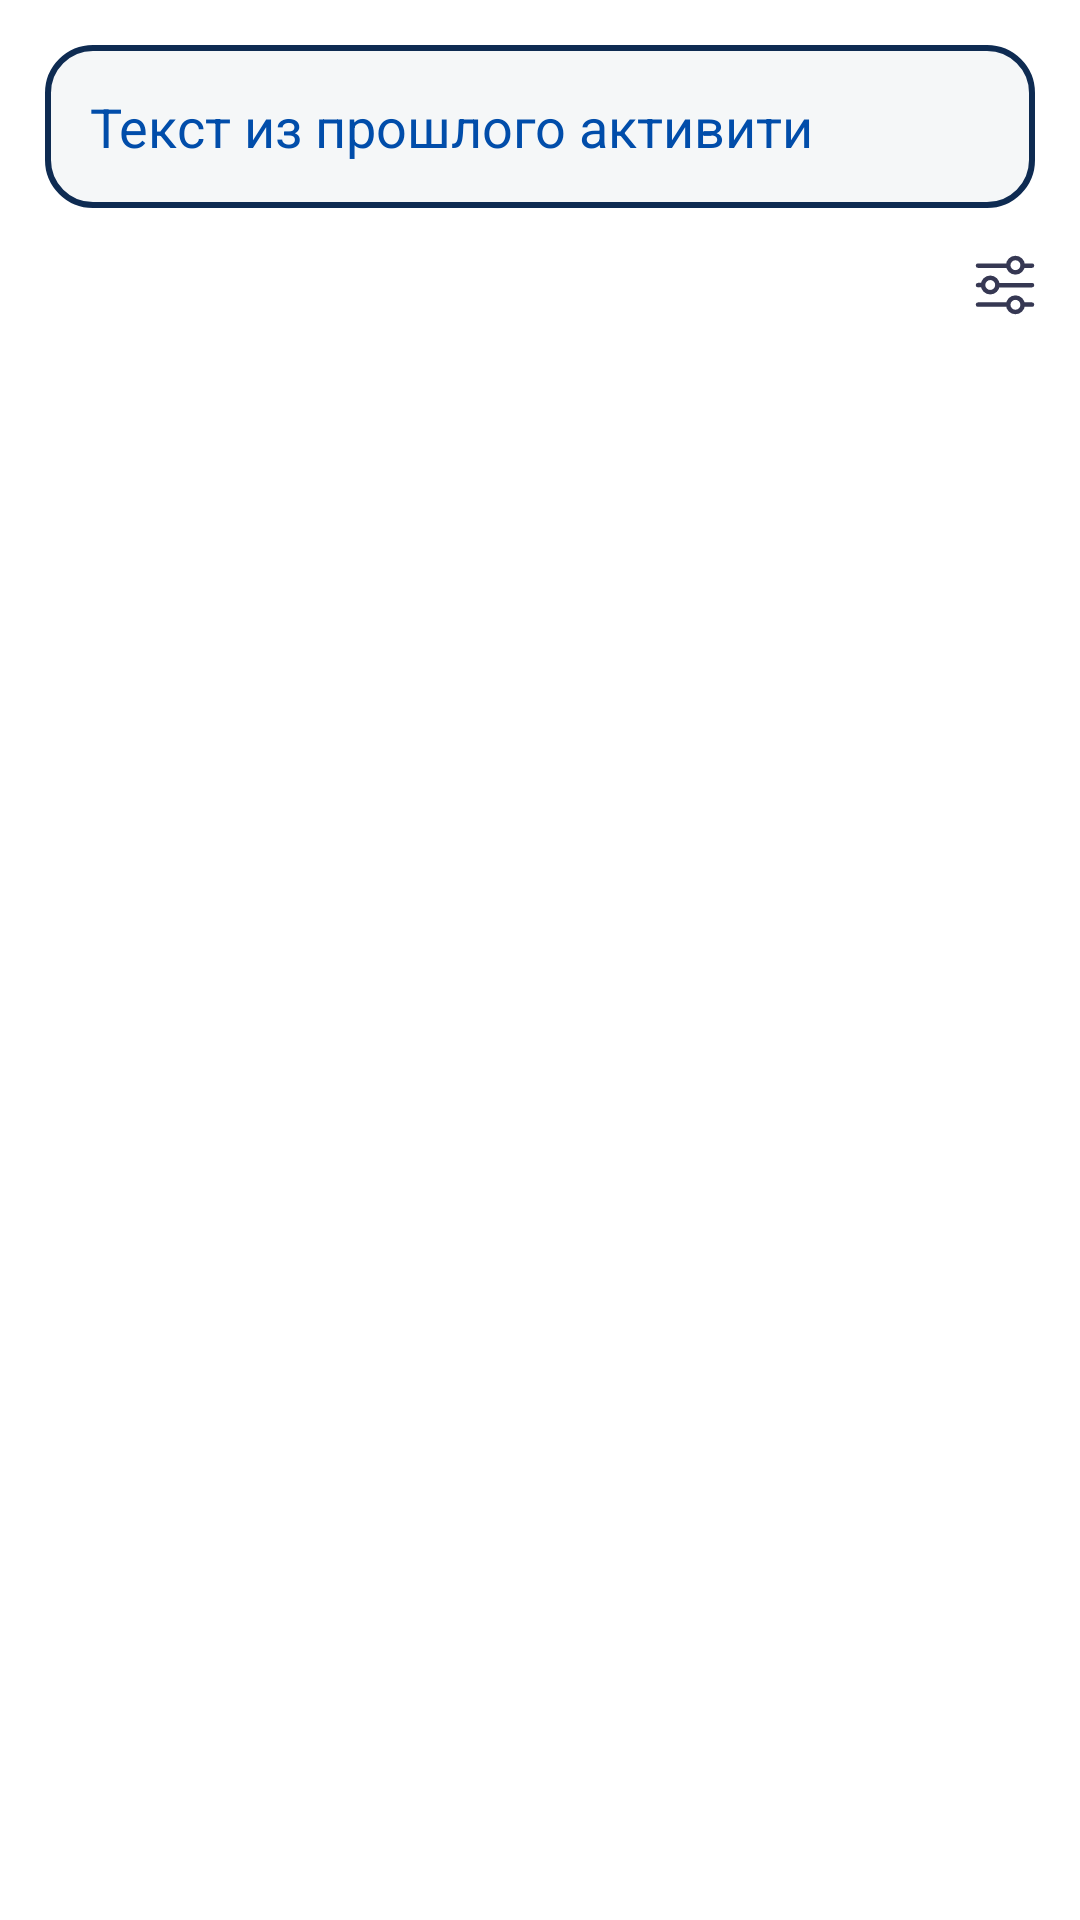

Icon click points for this 1080 × 1920 phone screenshot, format point (x, y):
filter: point (1005, 285)
